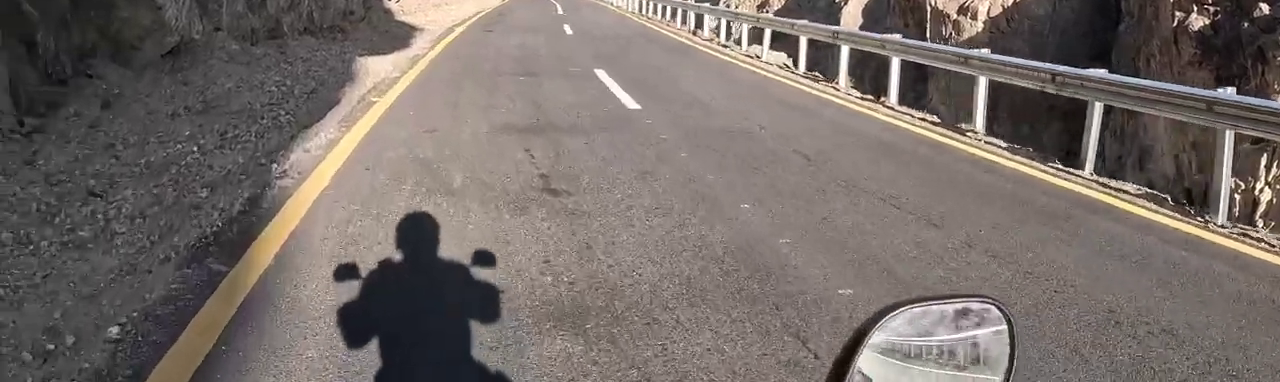left: (460, 16, 789, 227)
